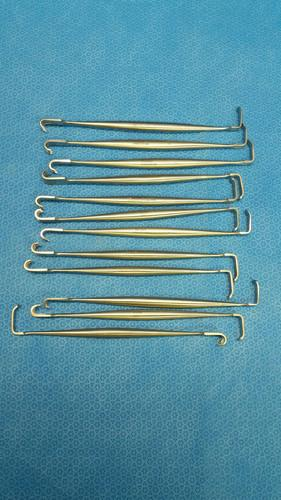Senn Retractor: (7, 300, 235, 351), (28, 299, 268, 341), (23, 239, 248, 278), (32, 207, 272, 242), (47, 137, 262, 175), (18, 258, 238, 295), (35, 162, 247, 199), (31, 177, 257, 210), (37, 103, 243, 135), (40, 281, 270, 309), (31, 127, 251, 156), (22, 207, 242, 228)
